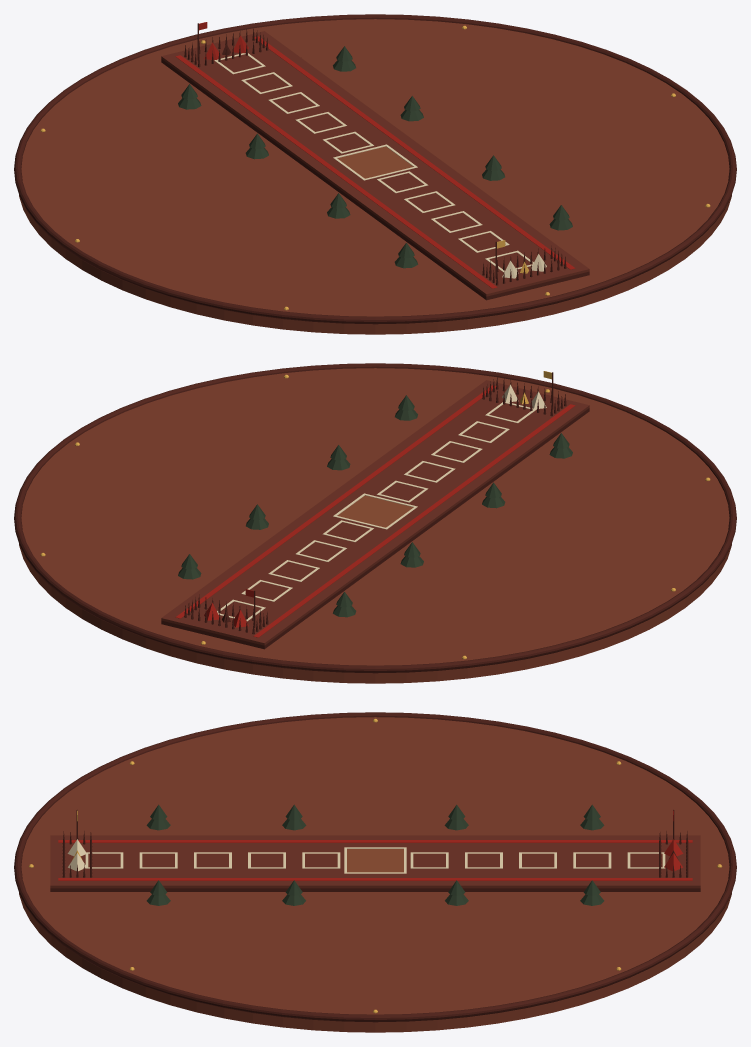
File: board.glb
The picture shows the model from 3 angles, top to bottom: view 1: azimuth 30°, elevation 25°; view 2: azimuth 150°, elevation 25°; view 3: azimuth 270°, elevation 25°; orthographic projection.
Parts seen in each view (by area): view 1: part_7A3A28, part_6B2F22, part_4E2018, part_A32219, part_E6D3AE, part_2E3B2A, part_8A4A2E; view 2: part_7A3A28, part_6B2F22, part_4E2018, part_A32219, part_E6D3AE, part_2E3B2A, part_8A4A2E; view 3: part_7A3A28, part_6B2F22, part_4E2018, part_A32219, part_E6D3AE, part_2E3B2A, part_8A4A2E.
Boxes of the visible parts, left/top/right/bottom form: part_7A3A28: left=19, top=19, right=731, bottom=334; part_6B2F22: left=161, top=31, right=589, bottom=296; part_4E2018: left=14, top=14, right=736, bottom=324; part_A32219: left=175, top=22, right=575, bottom=288; part_E6D3AE: left=214, top=53, right=546, bottom=278; part_2E3B2A: left=178, top=46, right=572, bottom=268; part_8A4A2E: left=337, top=146, right=413, bottom=178; part_7A3A28: left=19, top=368, right=731, bottom=683; part_6B2F22: left=161, top=380, right=589, bottom=645; part_4E2018: left=14, top=363, right=736, bottom=673; part_A32219: left=175, top=385, right=575, bottom=637; part_E6D3AE: left=217, top=384, right=546, bottom=621; part_2E3B2A: left=178, top=395, right=572, bottom=617; part_8A4A2E: left=337, top=495, right=413, bottom=527; part_7A3A28: left=19, top=717, right=731, bottom=1032; part_6B2F22: left=50, top=835, right=700, bottom=888; part_4E2018: left=14, top=712, right=736, bottom=1022; part_A32219: left=58, top=810, right=692, bottom=880; part_E6D3AE: left=67, top=839, right=665, bottom=873; part_2E3B2A: left=146, top=804, right=604, bottom=905; part_8A4A2E: left=347, top=849, right=403, bottom=872.
Size of the model in its own units: 26.68 by 2.35 by 26.68.
